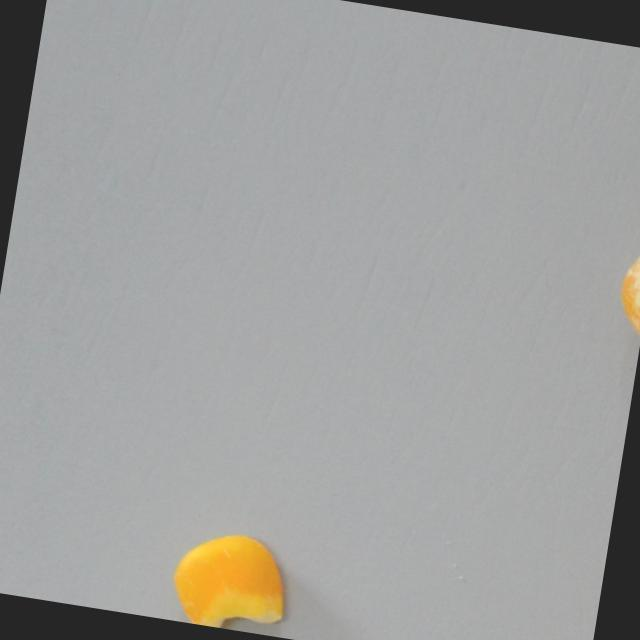no_canjicado: (166, 525, 295, 638)
pelicula: (608, 233, 640, 351)
